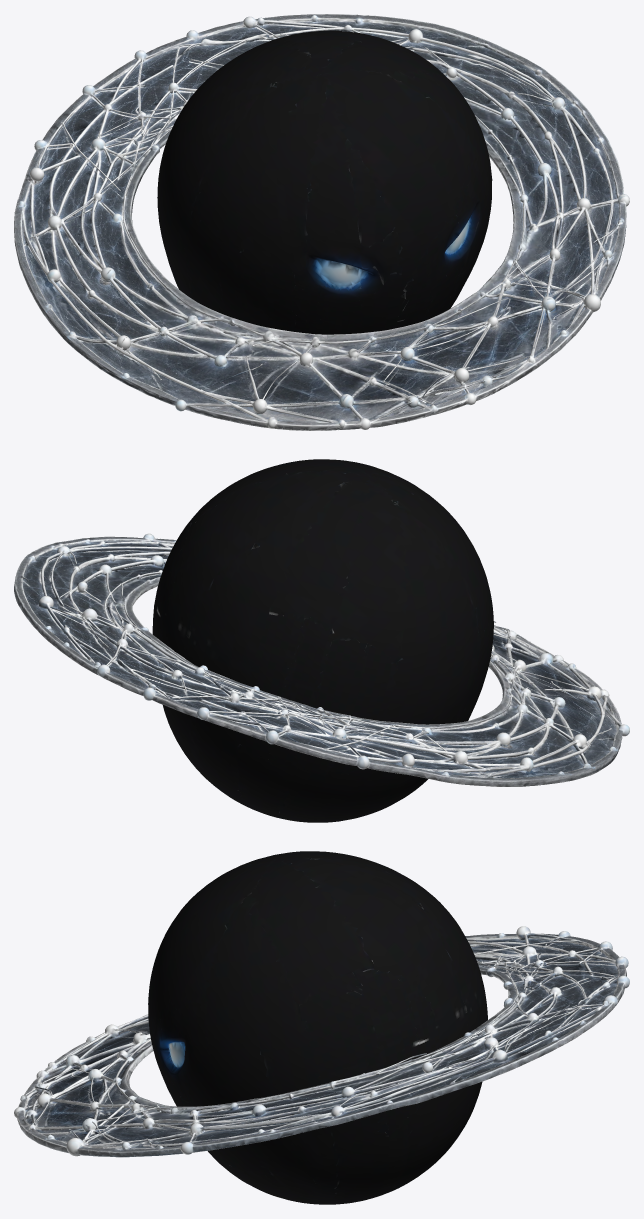
File: pet-black-hole.glb
3 views of the same model, one above another, from view 1: azimuth 30°, elevation 25°; view 2: azimuth 150°, elevation 25°; view 3: azimuth 270°, elevation 25° (orthographic).
Parts seen in each view (by area): view 1: Mesh_0.001; view 2: Mesh_0.001; view 3: Mesh_0.001.
Boxes of the visible parts, box(x1,y1,x2,y2) form: Mesh_0.001: box(14, 14, 629, 430); Mesh_0.001: box(14, 459, 629, 822); Mesh_0.001: box(14, 851, 629, 1204).
Size of the model in its own units: 0.2582 by 0.15 by 0.2592.
Materials: 1 (1 with a texture image).
